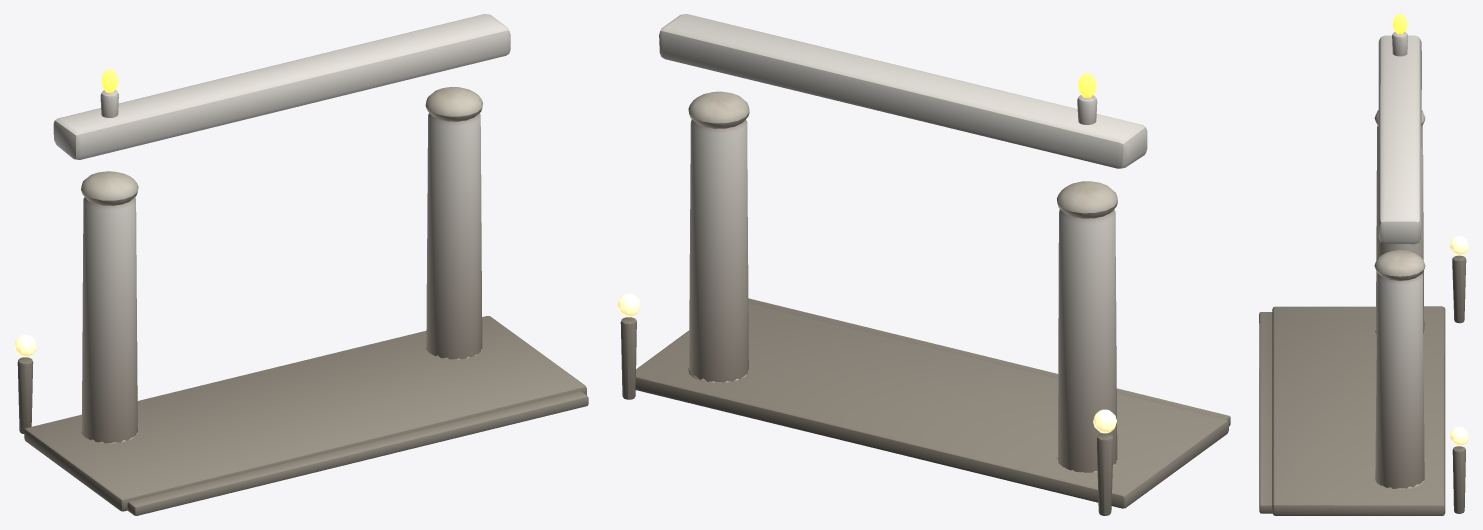
3 views of the same model, side by side, from view 1: azimuth 30°, elevation 25°; view 2: azimuth 150°, elevation 25°; view 3: azimuth 270°, elevation 25° (orthographic). The views are drawn at different scales.
Visible parts, largest first — view 1: gate_a0309dcd; view 2: gate_a0309dcd; view 3: gate_a0309dcd.
Boxes of the visible parts, <box> form: gate_a0309dcd: <box>14,14,588,515</box>; gate_a0309dcd: <box>617,14,1230,515</box>; gate_a0309dcd: <box>1259,14,1468,515</box>.
Size of the model in its own units: 5.74 by 4.42 by 2.55.
